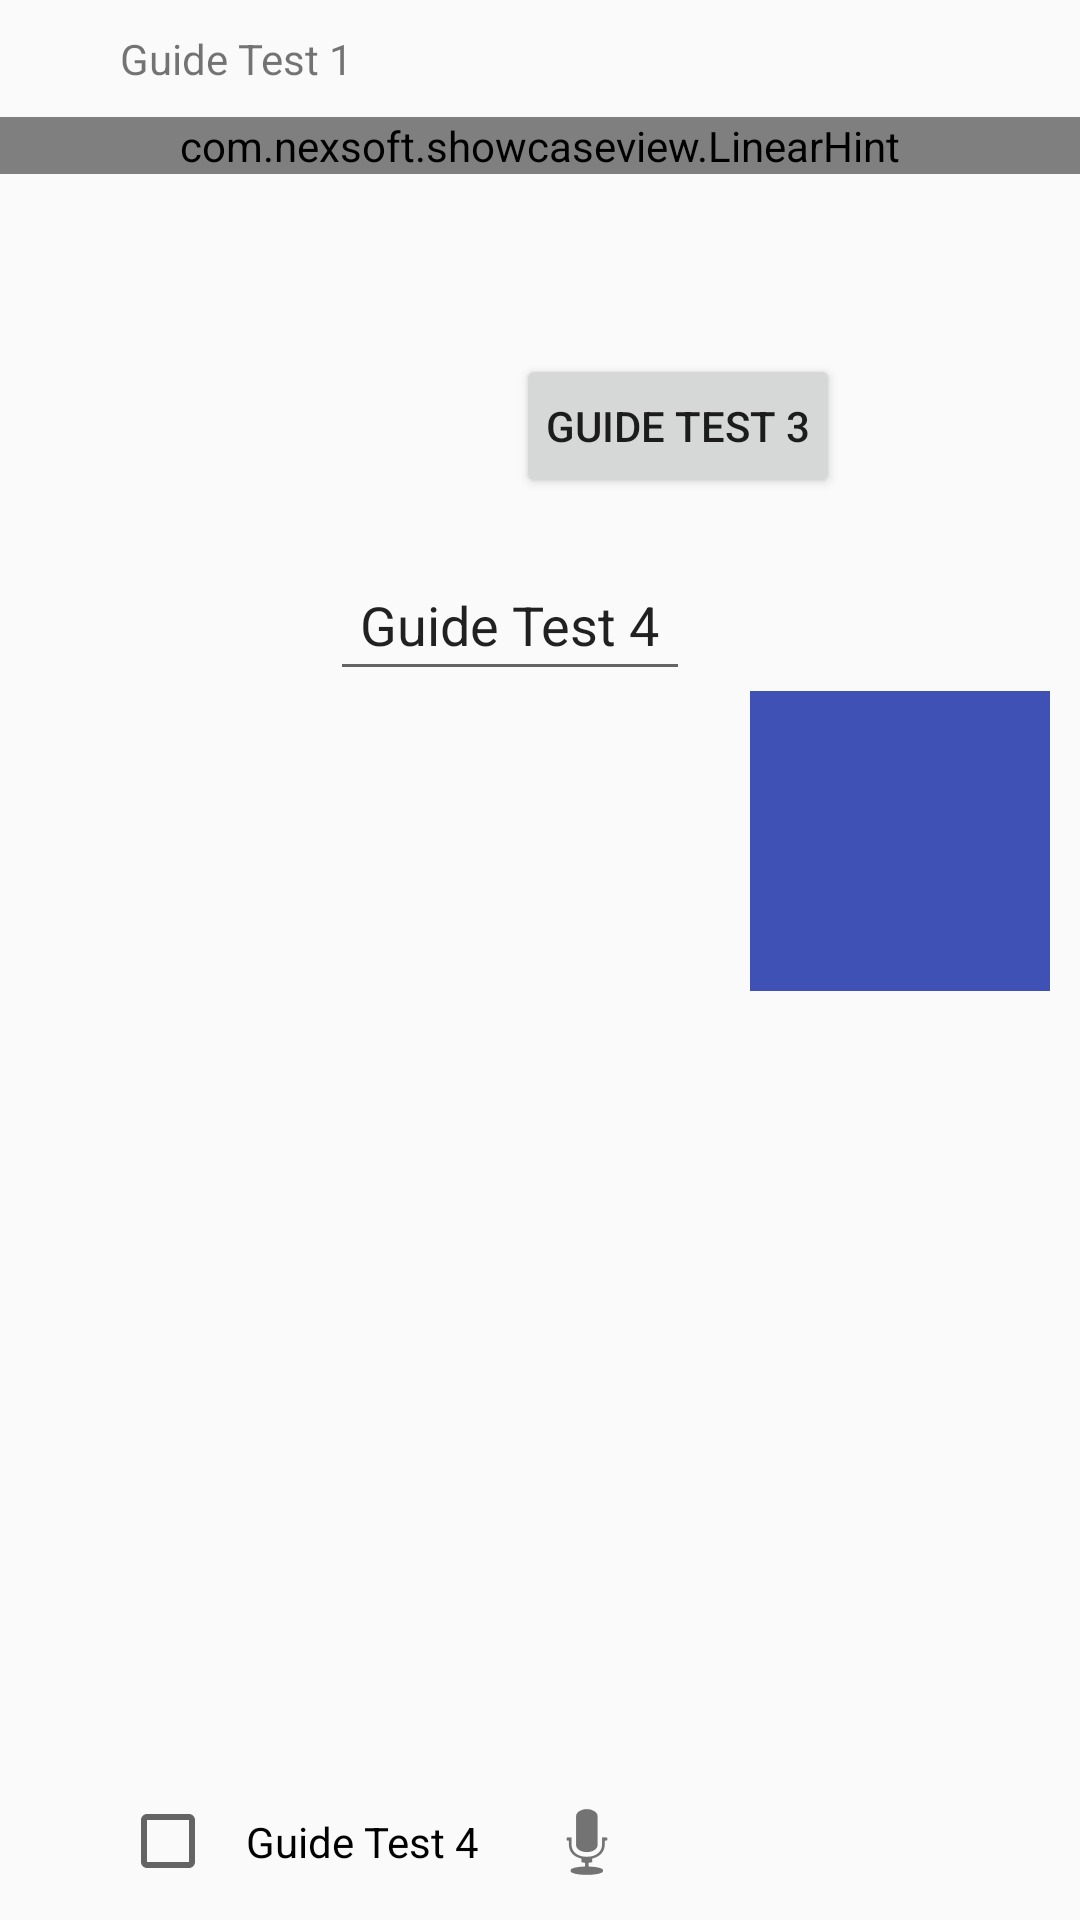

Locate icon controls on the screen. Image size 1080 × 1920, boxes as (x1, y1, x2, y2).
speak now: (566, 1809, 608, 1875)
